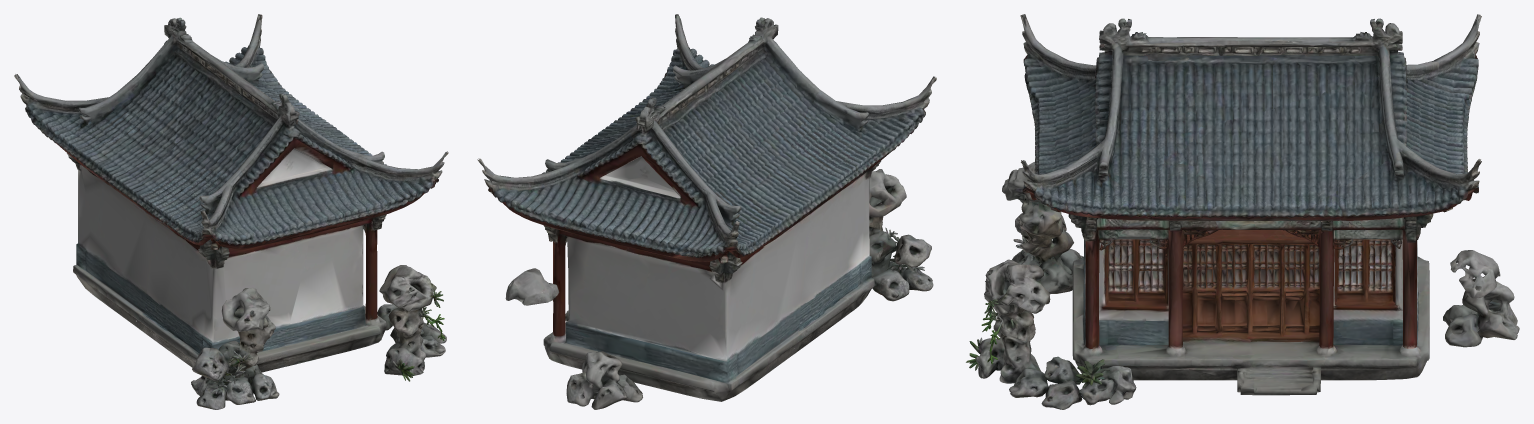
The model's file is hengwu.glb.
3 views of the same model, side by side, from view 1: azimuth 30°, elevation 25°; view 2: azimuth 150°, elevation 25°; view 3: azimuth 270°, elevation 25° (orthographic). The views are drawn at different scales.
Parts seen in each view (by area): view 1: tripo_node_b89428d3-aafc-4159-bf0b-d706df5ff080; view 2: tripo_node_b89428d3-aafc-4159-bf0b-d706df5ff080; view 3: tripo_node_b89428d3-aafc-4159-bf0b-d706df5ff080.
Part boxes in pixels (left/top/right/bottom): tripo_node_b89428d3-aafc-4159-bf0b-d706df5ff080: left=14, top=14, right=448, bottom=409; tripo_node_b89428d3-aafc-4159-bf0b-d706df5ff080: left=477, top=14, right=936, bottom=409; tripo_node_b89428d3-aafc-4159-bf0b-d706df5ff080: left=966, top=14, right=1519, bottom=409.
Size of the model in its own units: 0.6442 by 0.6088 by 0.9798.
Materials: 1 (1 with a texture image).
